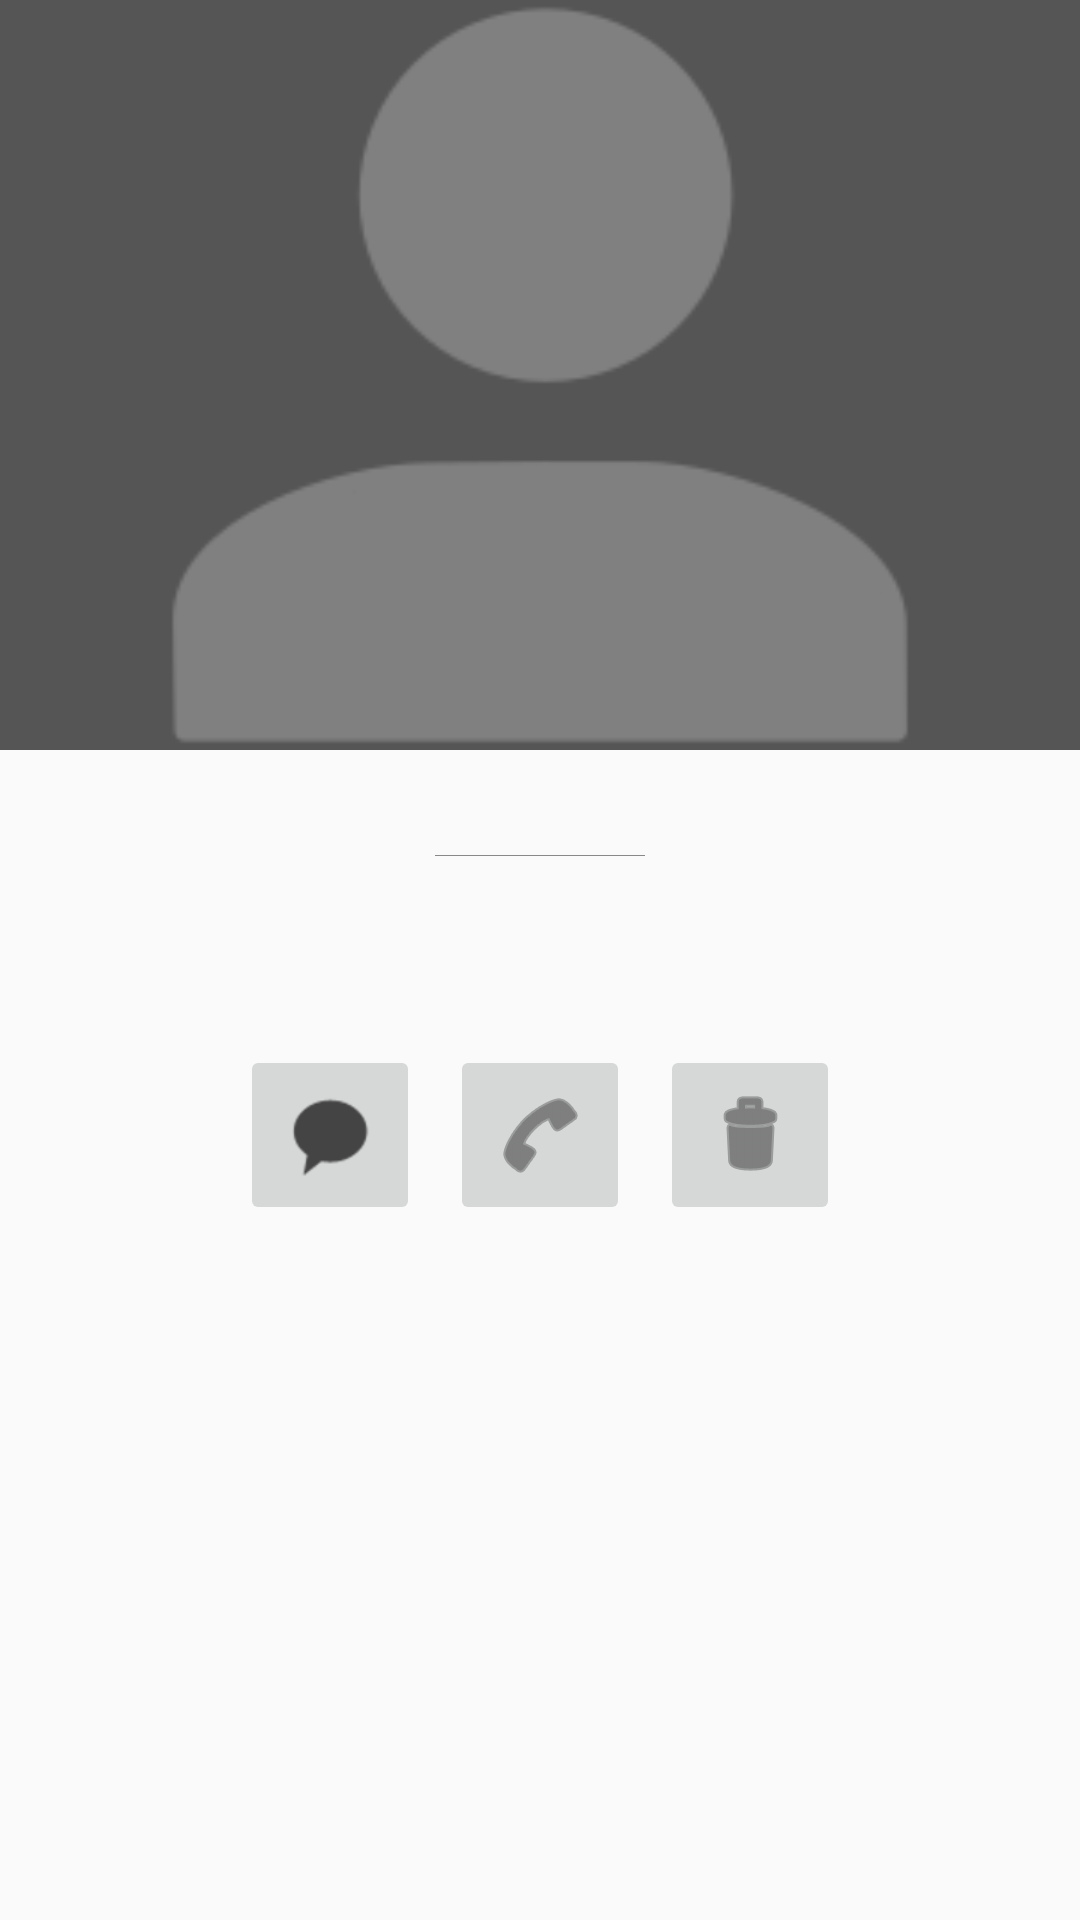

Named icons in this screenshot (1080px×1920px) and their centers, [x,y]:
call: [540,1135]
delete: [750,1135]
sym action chat: [330,1135]
